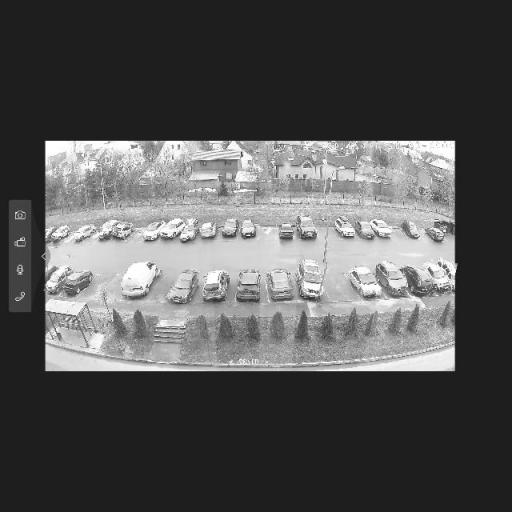busy: (113, 262, 161, 301), (346, 264, 388, 301), (262, 266, 298, 304), (400, 262, 434, 300), (374, 260, 408, 297), (299, 260, 328, 303), (167, 268, 198, 306), (232, 270, 266, 303), (419, 259, 448, 296), (58, 270, 96, 298), (196, 271, 230, 302), (426, 259, 456, 293), (97, 219, 132, 242), (160, 218, 188, 242), (360, 219, 389, 242), (292, 218, 321, 240), (44, 266, 66, 294), (173, 219, 198, 243), (68, 222, 97, 242), (332, 216, 358, 238), (236, 218, 260, 241), (398, 221, 426, 240), (48, 224, 74, 244), (135, 223, 161, 241), (425, 224, 450, 242), (198, 221, 220, 240), (356, 220, 374, 242), (220, 220, 241, 238), (278, 222, 298, 240)
free: (152, 271, 178, 300), (330, 272, 350, 302), (108, 274, 128, 300), (88, 276, 110, 297), (318, 221, 335, 241), (131, 224, 147, 242), (90, 226, 104, 242), (64, 228, 78, 244), (258, 228, 274, 241), (418, 228, 432, 242), (388, 229, 402, 240)
